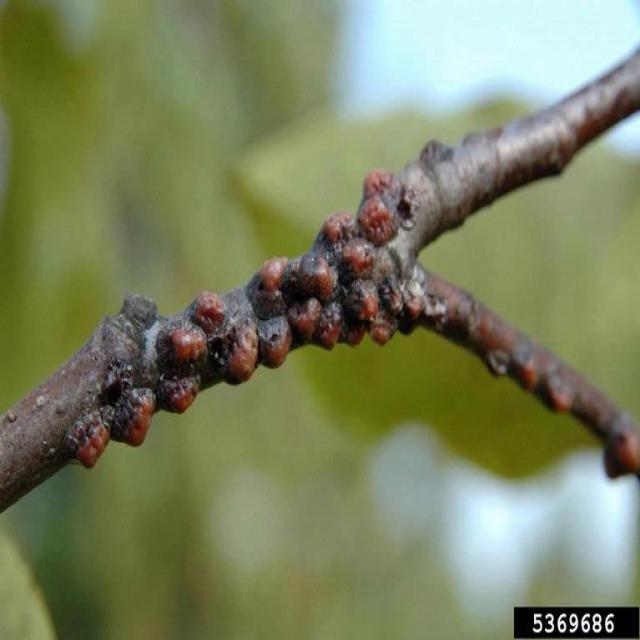BlackScale: (59, 171, 412, 468)
